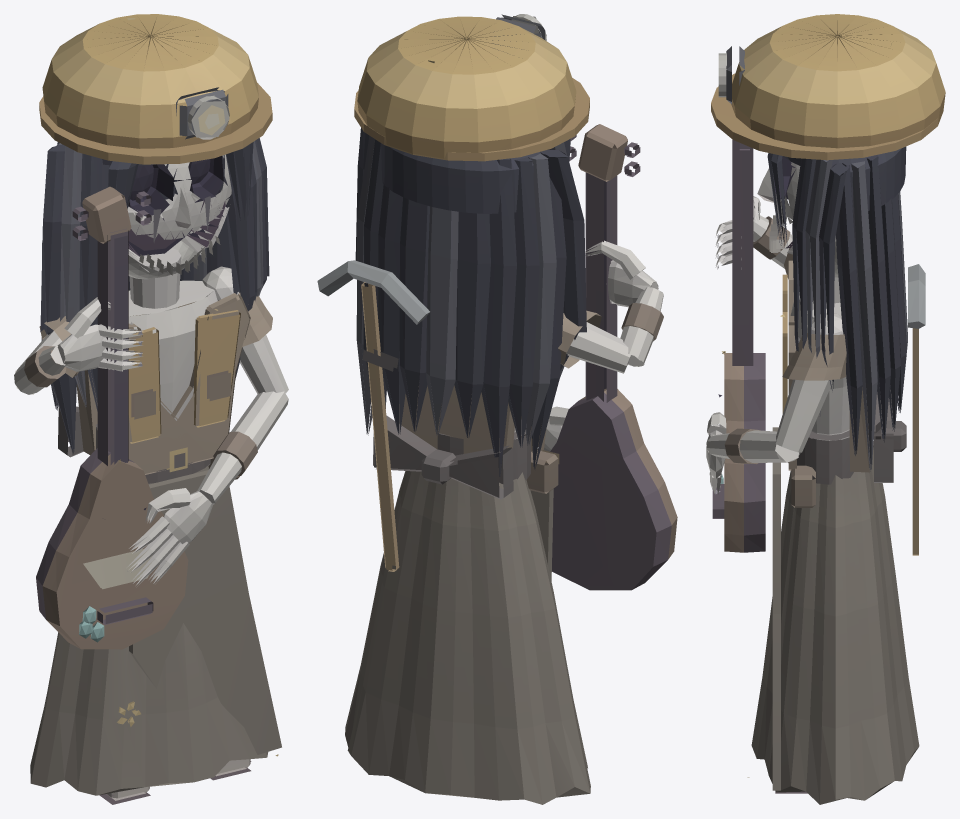
The model's file is MimicMiner.glb.
3 views of the same model, side by side, from view 1: azimuth 30°, elevation 25°; view 2: azimuth 150°, elevation 25°; view 3: azimuth 270°, elevation 25° (orthographic).
Visible parts, largest first — view 1: Body, Head, ArmL, ArmR, LegR; view 2: Body, Head, ArmR, ArmL; view 3: Body, Head, ArmL, ArmR.
Boxes of the visible parts, box(x1,y1,x2,y2) form: Body: box(30, 186, 281, 795); Head: box(39, 14, 272, 453); ArmL: box(127, 266, 288, 587); ArmR: box(14, 297, 142, 394); LegR: box(99, 786, 150, 804); Body: box(317, 124, 677, 804); Head: box(354, 14, 589, 476); ArmR: box(558, 240, 663, 373); ArmL: box(544, 406, 568, 451); Body: box(712, 139, 925, 804); Head: box(711, 14, 945, 471); ArmL: box(706, 313, 846, 494); ArmR: box(715, 196, 792, 279).
Size of the model in its own units: 3.08 by 7.76 by 2.33.
